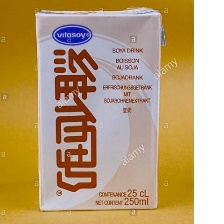carton: (31, 6, 168, 214)
